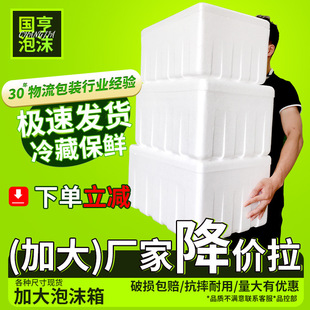Boxes: (129, 3, 274, 236)
